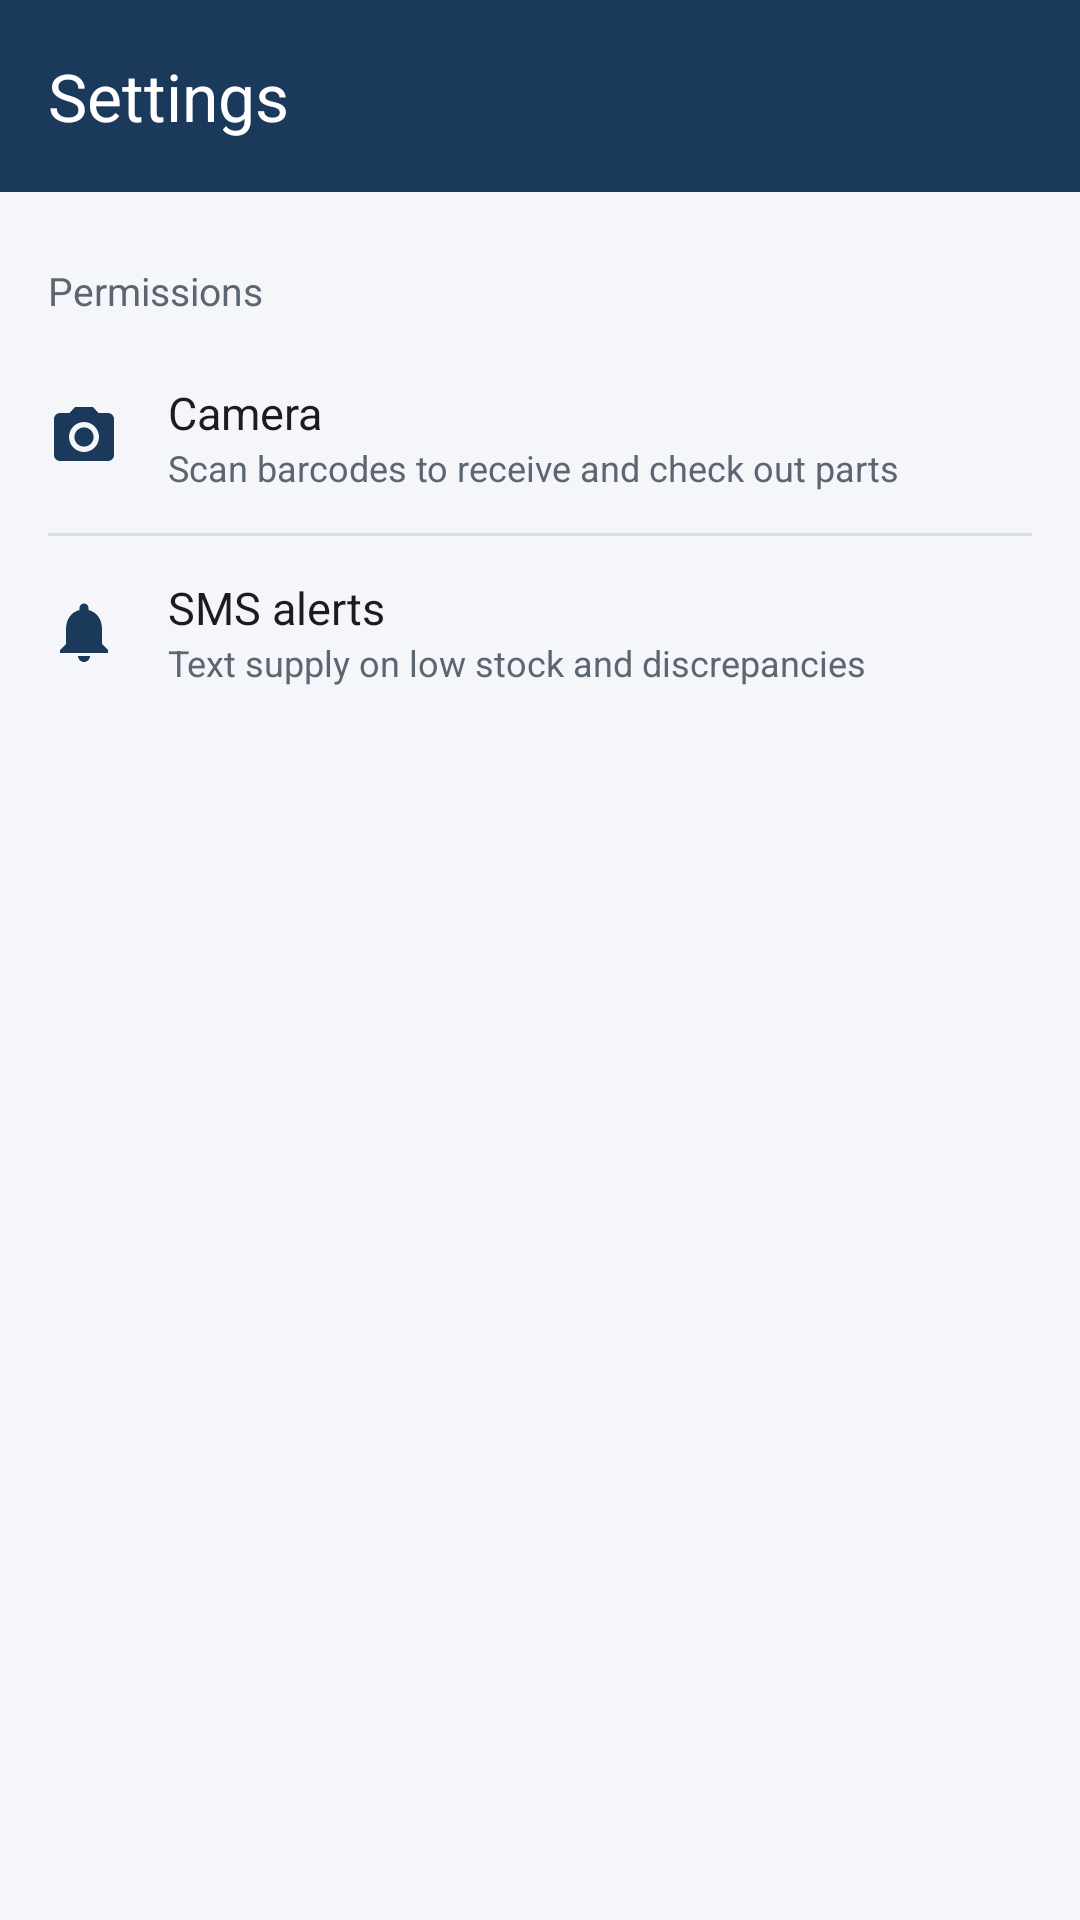

Where to tap for icons on this 1080 x 1920 app screen, as point (x, y):
bell: point (84, 632)
